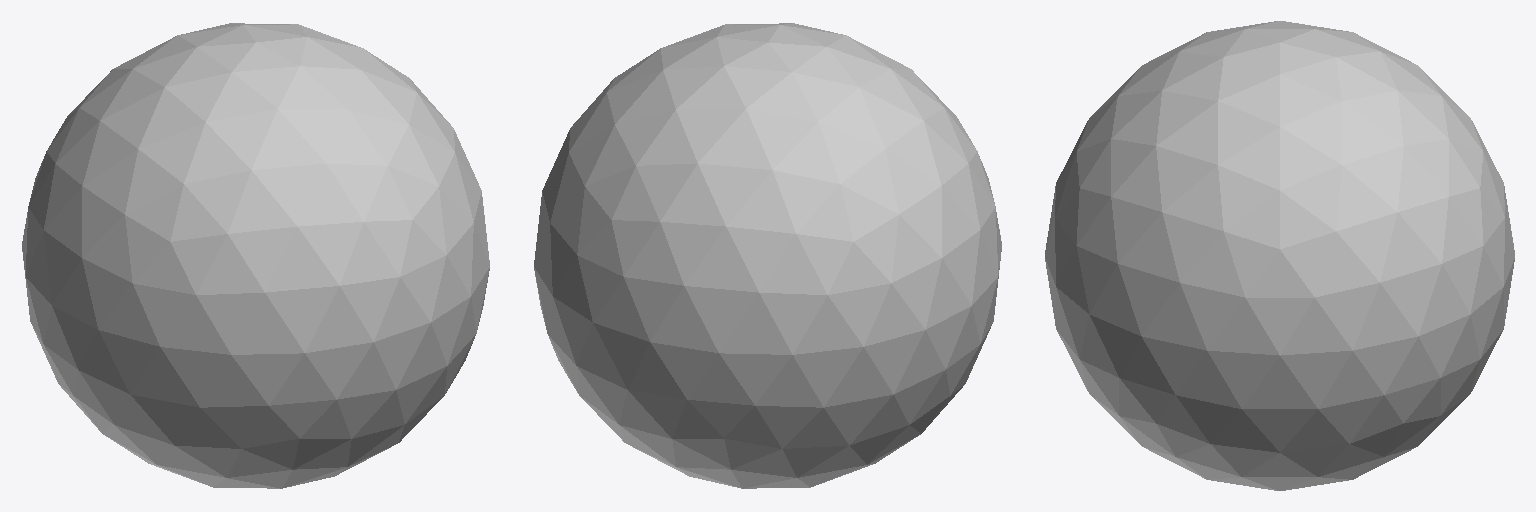
The model's file is planet.obj.
The picture shows the model from 3 angles: view 1: azimuth 30°, elevation 25°; view 2: azimuth 150°, elevation 25°; view 3: azimuth 270°, elevation 25°; orthographic projection.
Visible parts, largest first — view 1: Icosphere.001_Icosphere.004; view 2: Icosphere.001_Icosphere.004; view 3: Icosphere.001_Icosphere.004.
Part boxes in pixels (bbox=[...]): Icosphere.001_Icosphere.004: bbox=[22, 23, 489, 488]; Icosphere.001_Icosphere.004: bbox=[534, 23, 1001, 488]; Icosphere.001_Icosphere.004: bbox=[1045, 21, 1514, 490].
Size of the model in its own units: 2 by 2 by 2.